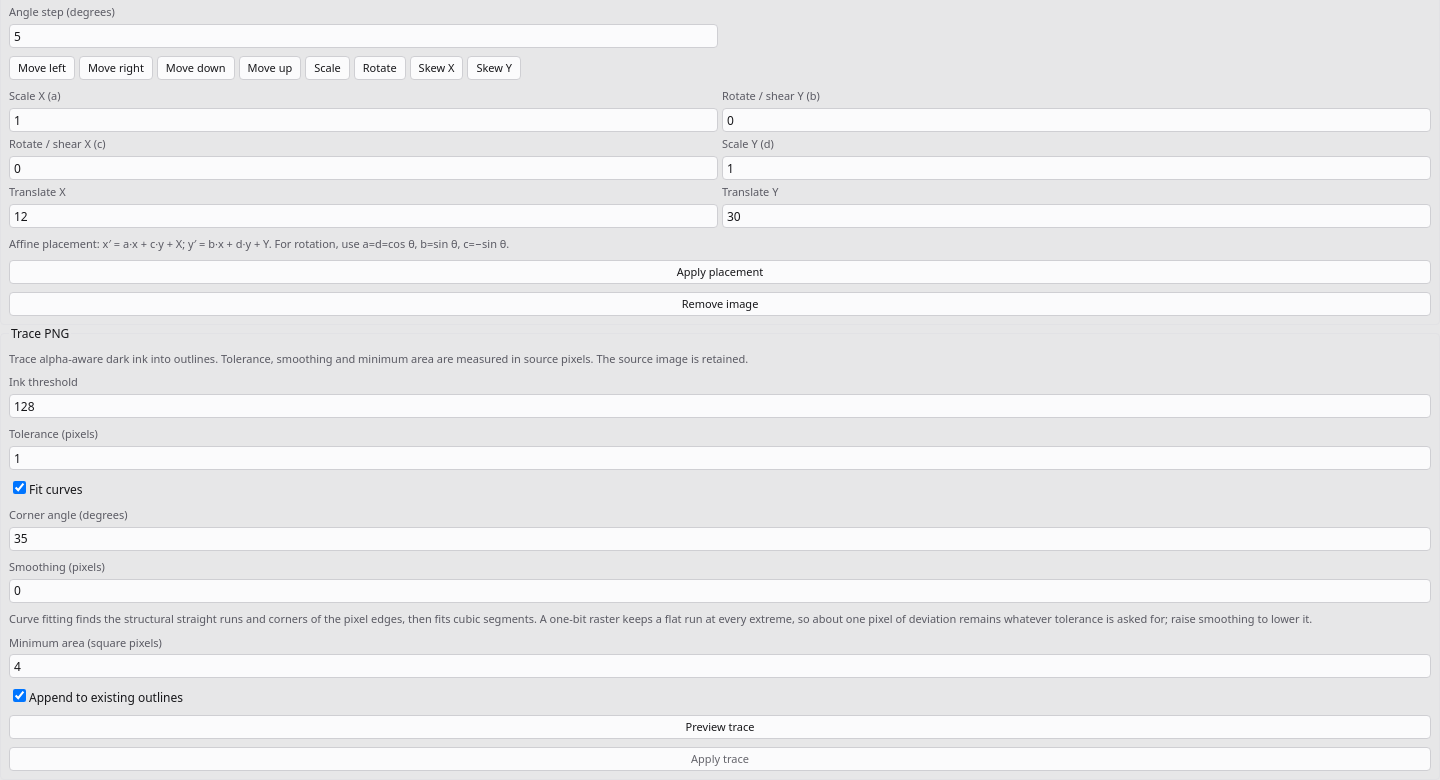
Test: sends every curve option, and hides corner controls for a line trace
This screenshot has width=1440, height=780.
(page scrolled)
Step 1. Replace the text in the number field labelled "Corner angle (degrees)" with "60" → (720, 539), box [9,527,1431,551]
Step 2. Replace the text in the number field labelled "Smoothing (pixels)" with "1.5" → (720, 591), box [9,579,1431,603]
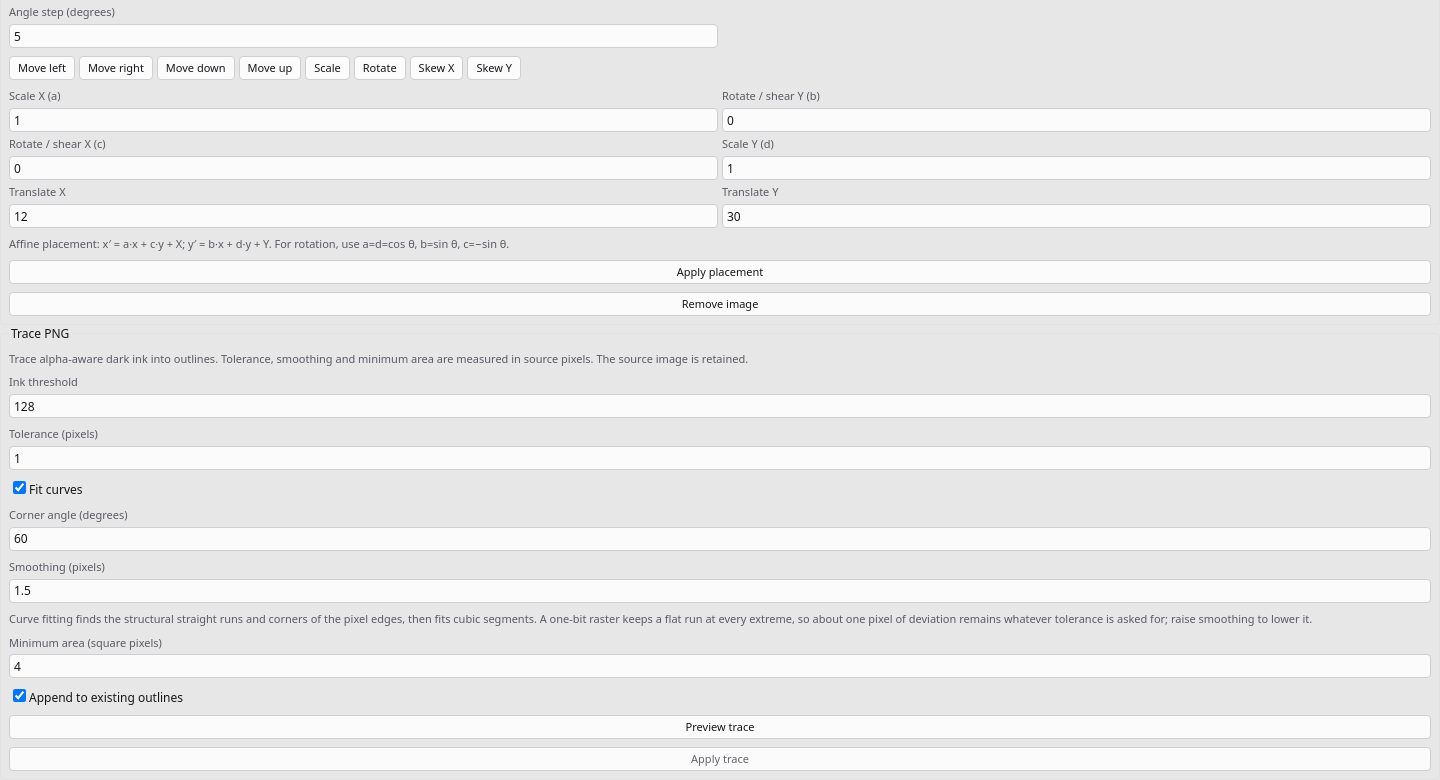
Step 3. Replace the text in the number field labelled "Minimum area (square pixels)" with "0" → (720, 666), box [9,654,1431,678]
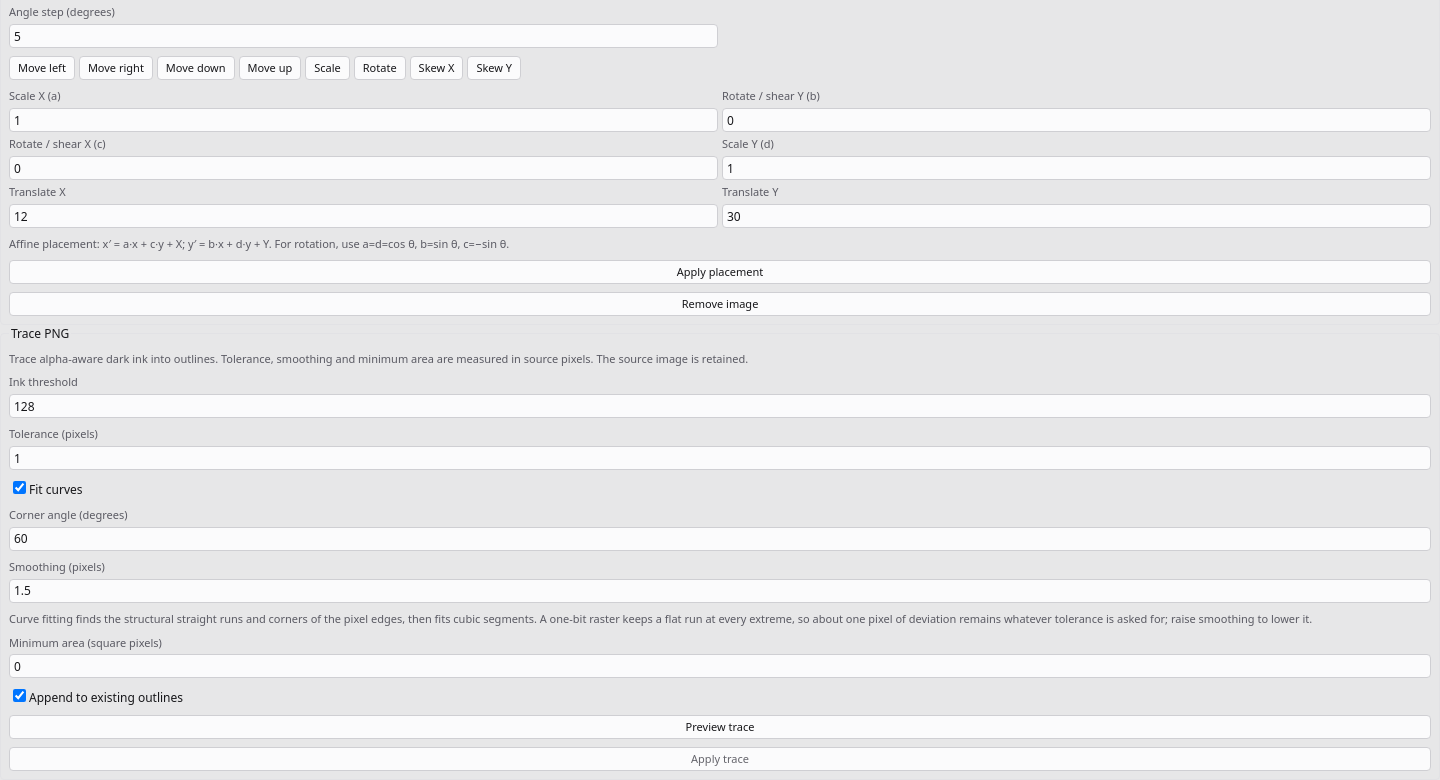
Step 4. Replace the text in the number field labelled "Minimum area (square pixels)" with "4" → (720, 666), box [9,654,1431,678]
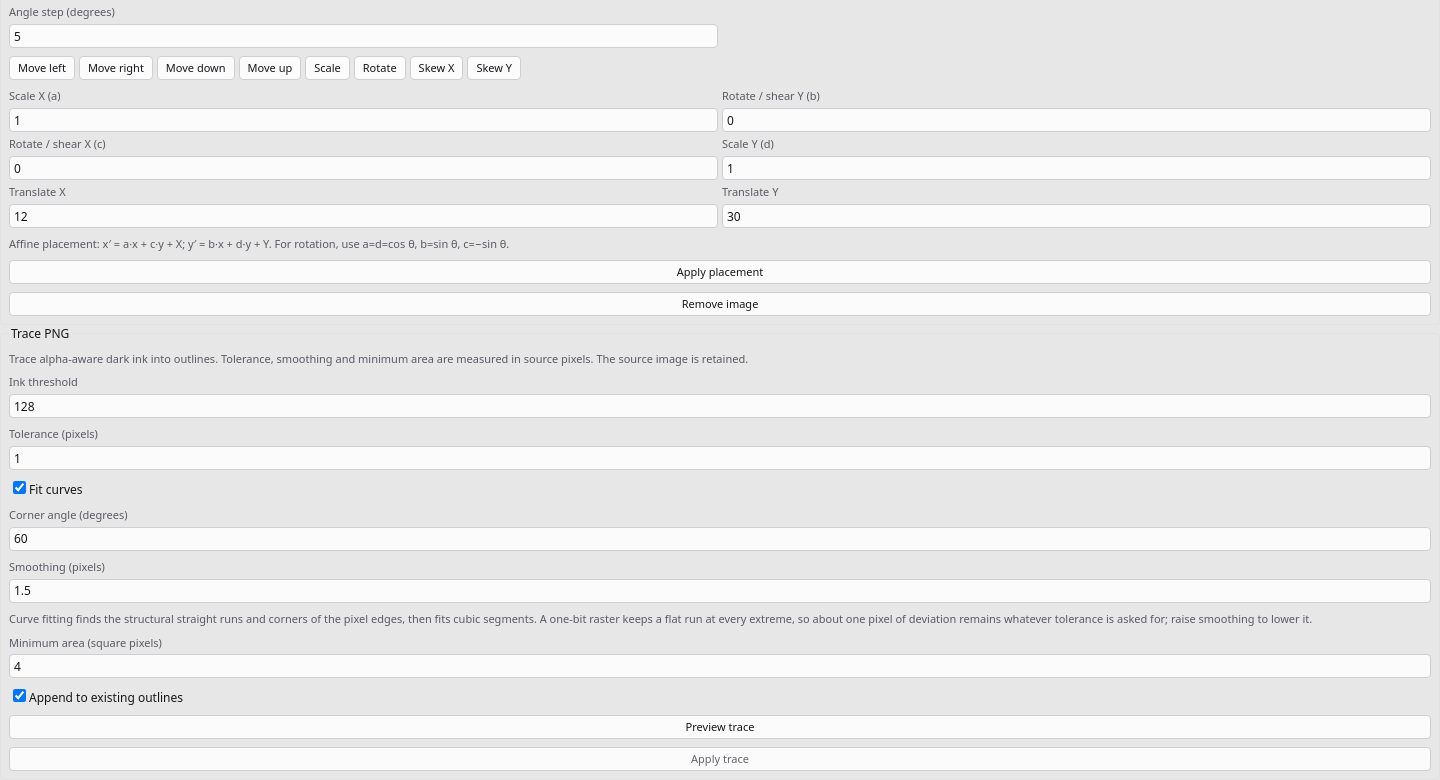
Step 5. Click the button "Preview trace" → (720, 727), box [9,715,1431,739]
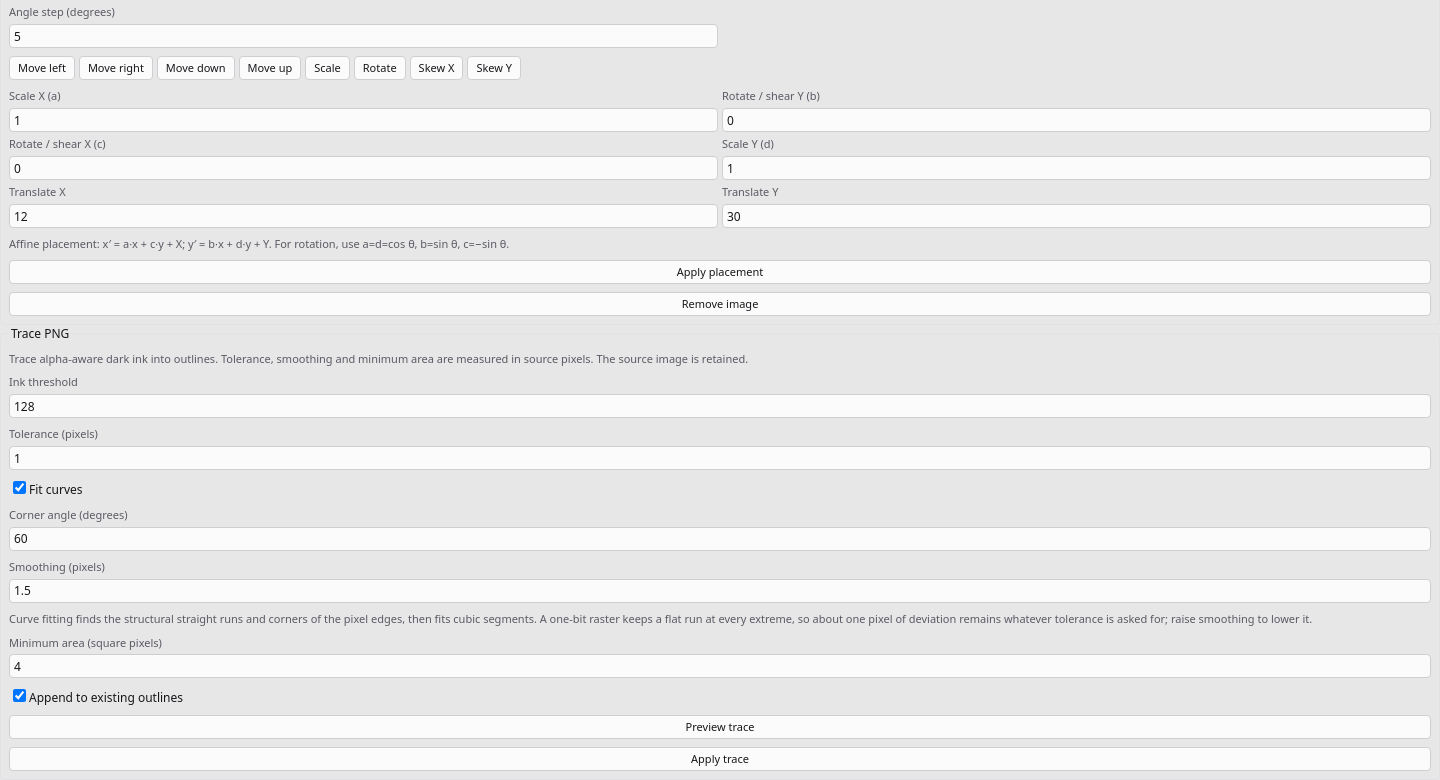
Step 6. Click the checkbox labelled "Fit curves" → (20, 488), box [13,481,26,494]
(page scrolled)
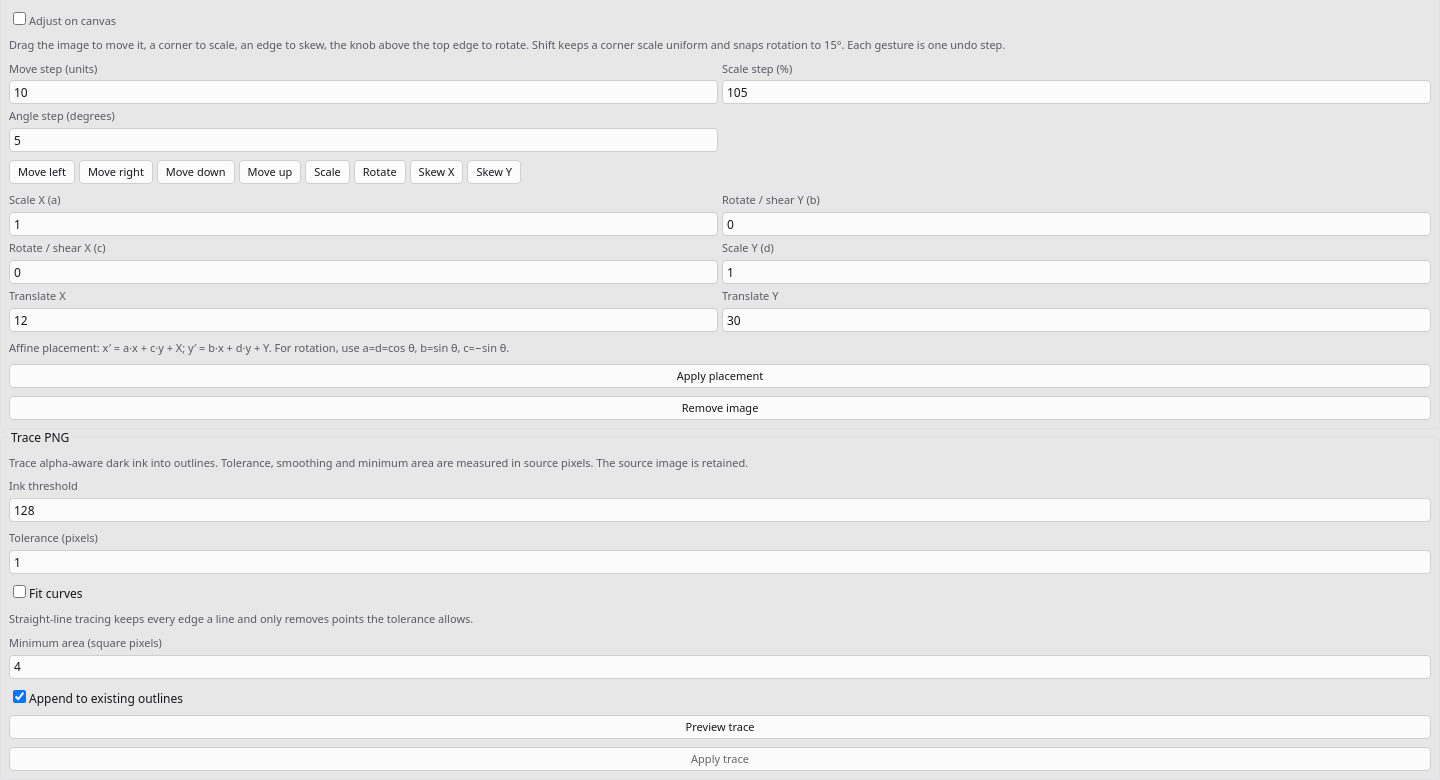
Now the label "Corner angle (degrees)" is gone
Now the button "Apply trace" is disabled, box [9,747,1431,771]
Step 7. Click the button "Preview trace" → (720, 727), box [9,715,1431,739]
(page scrolled)
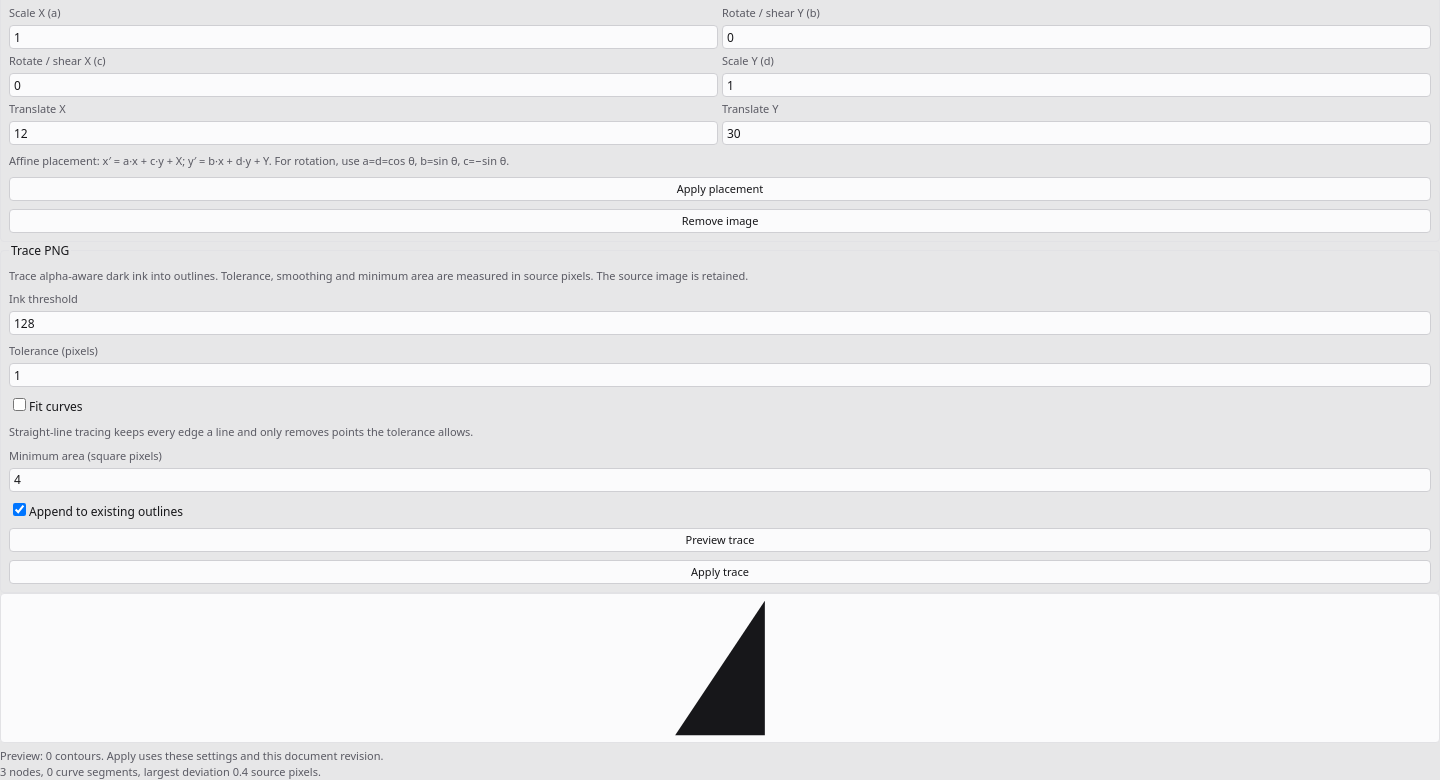
Now the picture named "Traced outlines" is shown, box [0,593,1439,743]
